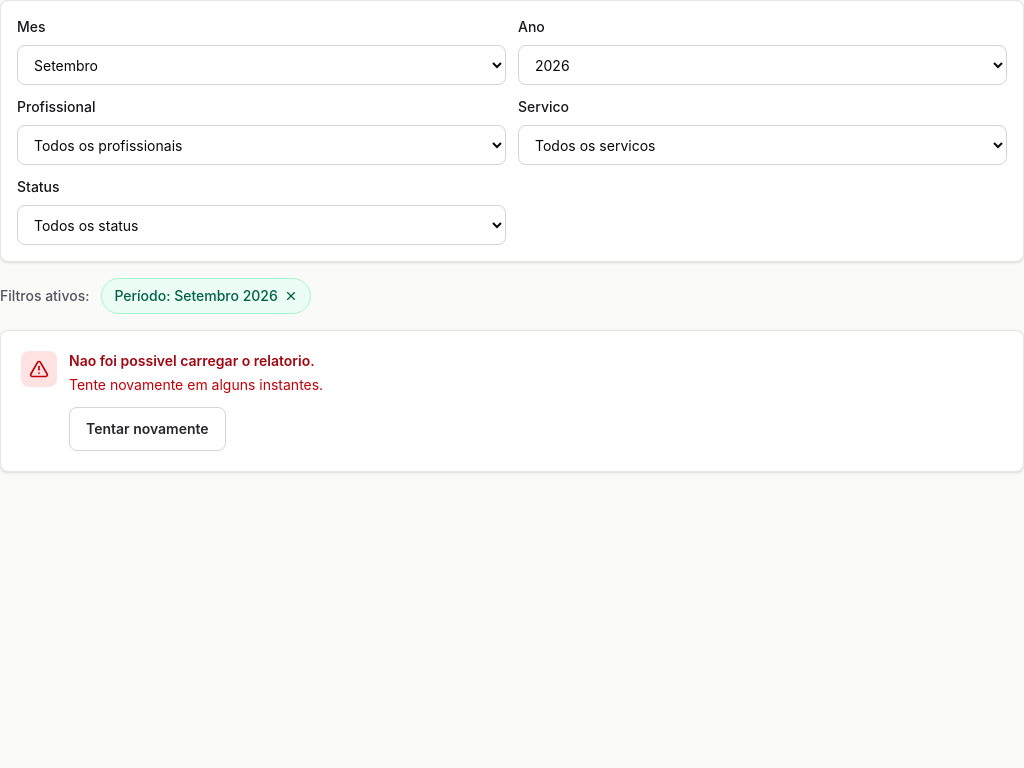
Test: reports mobile and filters › mostra erro recuperável e restaura o relatório após tentar novamente
Expected: the message shows "Nao foi possivel carregar o relatorio.", [69,352,315,369]
Click the button "Tentar novamente" at (147, 429), box [69,407,226,451]
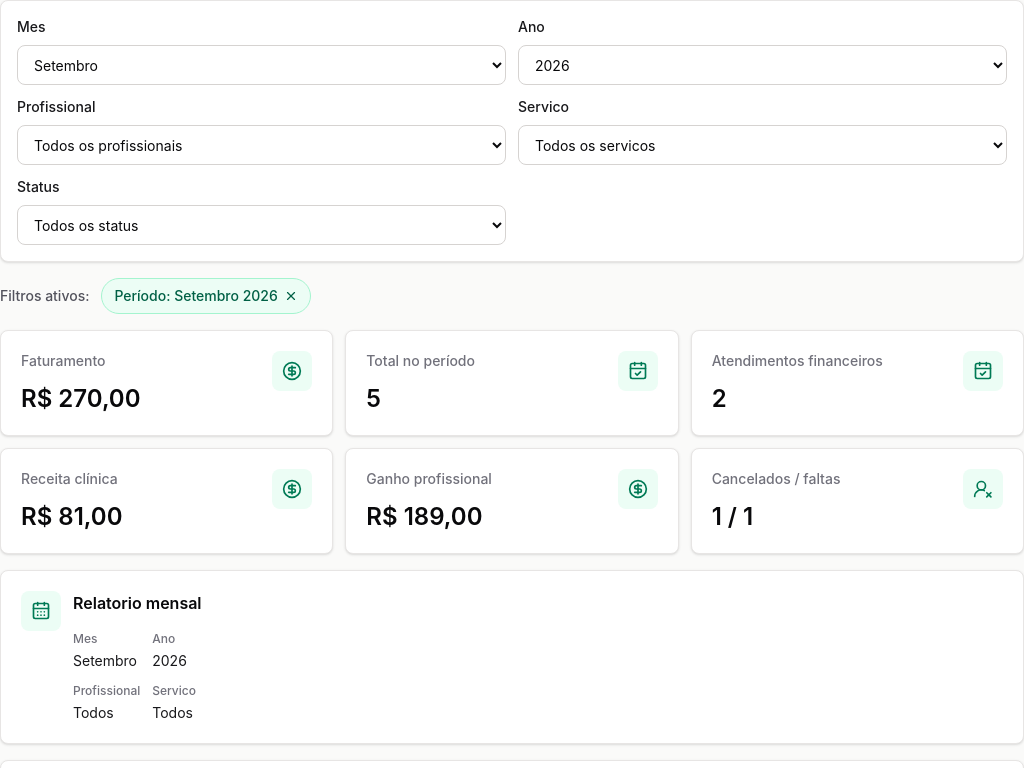
Expected: the element named "Indicadores do relatório" is shown, [0,330,1023,554]
Expected: the message is gone
